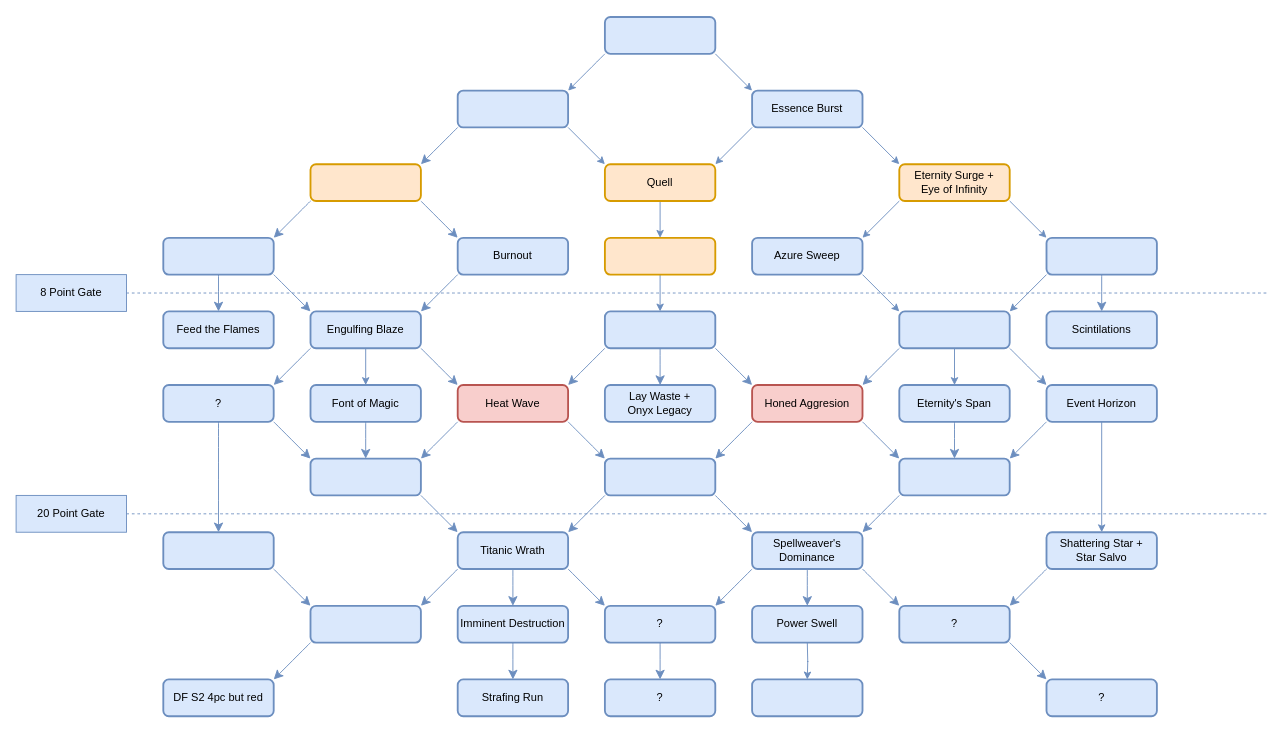
The diagram is 1284 pixels wide and 732 high, and some of its shapes have lost their labels. The shapes that lost their labels are listed below. From the top down, each one's centre as x and y in pixels, then its label:
[660,35]: Causality
[512,108]: Power Nexus
[365,182]: Pyre
[218,255]: Volatility
[660,255]: Dragonrage
[1101,255]: Azure Celerity
[660,329]: Animosity
[954,329]: Essence Attunement
[365,476]: Catalyze
[660,476]: Tyranny
[954,476]: Charged Blast
[218,550]: Mass Pyre on FB uprank
[365,623]: Enkindle
[807,697]: Iridescence
